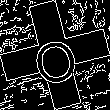O_N: (28, 25, 82, 85)
